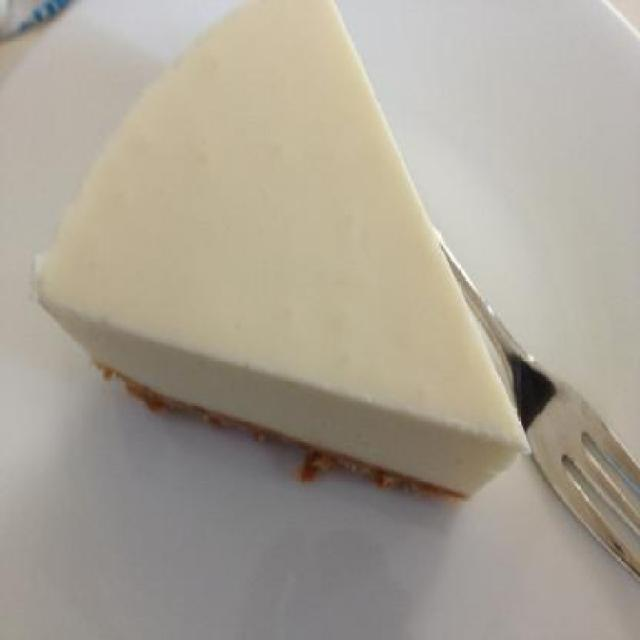Rare cheese cake: (25, 2, 553, 544)
